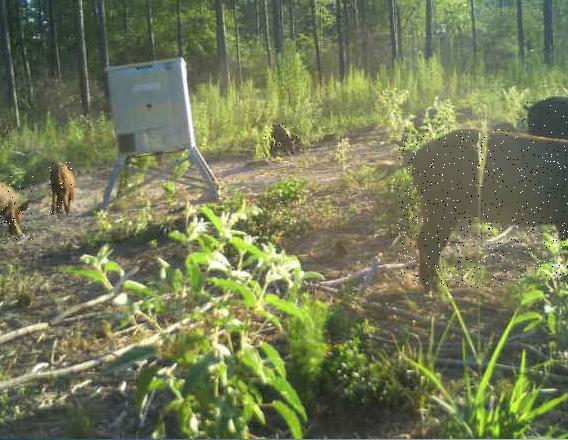Hog: (397, 129, 568, 288), (518, 95, 568, 148), (0, 175, 34, 244), (50, 163, 73, 217), (263, 124, 299, 155)
